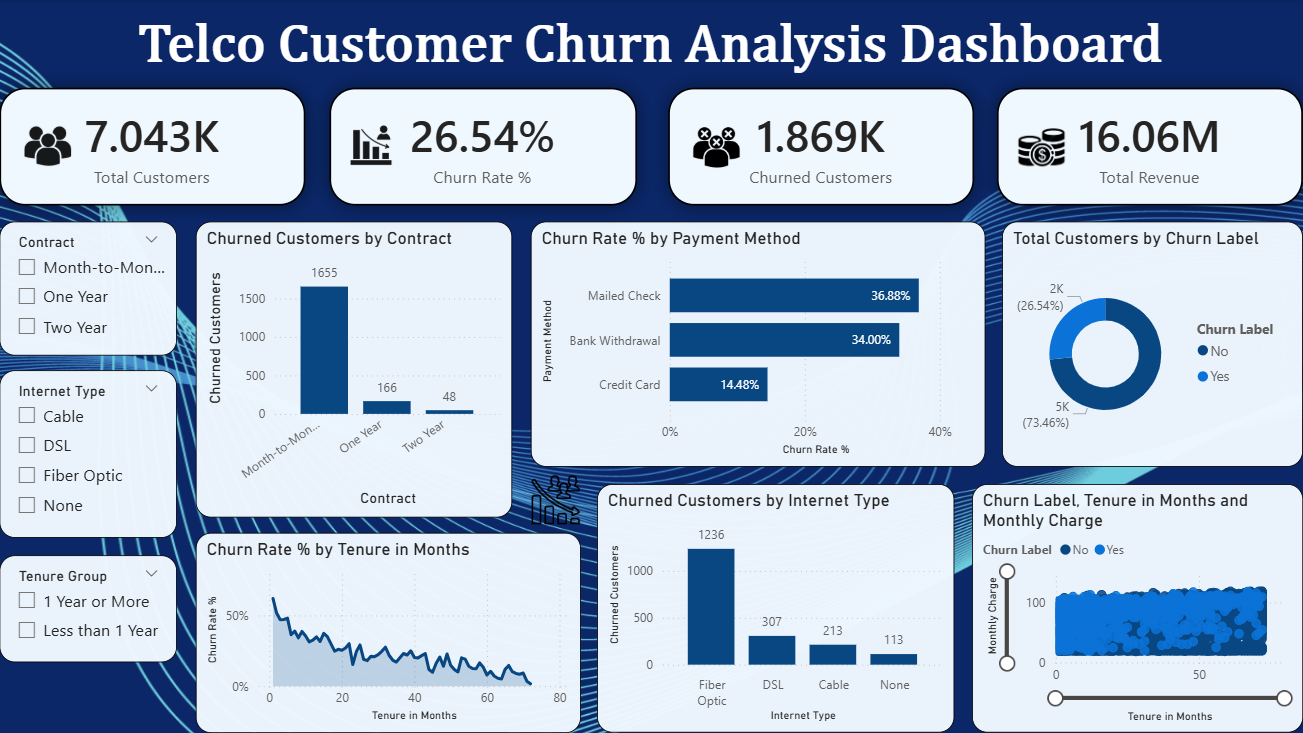

What the dashboard file says about the page in this screenshot:
{"tool":"powerbi","page":{"name":"Page 1","canvas":[1280,720],"ordinal":0},"visuals":[{"type":"clusteredColumnChart","fields":{"Y":["Measures Table.Churned Customers"],"Category":["telco.Contract"]},"box":[194.4,217.7,309.4,289.8],"z":0},{"type":"clusteredBarChart","fields":{"Category":["telco.Payment Method"],"Y":["Measures Table.Churn Rate %"]},"box":[522.1,217.7,445.1,239.7],"z":1000},{"type":"donutChart","fields":{"Category":["telco.Churn Label"],"Y":["Measures Table.Total Customers"]},"box":[983.2,217.7,294.7,239.7],"z":2000},{"type":"lineChart","fields":{"Y":["Measures Table.Churn Rate %"],"Category":["telco.Tenure in Months"]},"box":[194.4,522.1,376.6,195.7],"z":3000},{"type":"clusteredColumnChart","fields":{"Y":["Measures Table.Churned Customers"],"Category":["telco.Internet Type"]},"box":[587,474.5,349.7,243.3],"z":4000},{"type":"scatterChart","fields":{"X":["telco.Tenure in Months"],"Y":["telco.Monthly Charge"],"Series":["telco.Churn Label"]},"box":[953.8,474.5,324.1,243.3],"z":5000},{"type":"slicer","fields":{"Values":["telco.Contract"]},"box":[2.4,217.7,173.6,130.8],"z":6000},{"type":"slicer","fields":{"Values":["telco.Internet Type"]},"box":[2.4,363.2,173.6,163.9],"z":7000},{"type":"slicer","fields":{"Values":["telco.Tenure Group"]},"box":[2.4,544.2,173.6,105.2],"z":8000},{"type":"textbox","box":[127.2,11,1023.5,75.8],"z":9000},{"type":"cardVisual","fields":{"Data":["Measures Table.Total Customers"]},"box":[2.4,86.8,299.6,114.9],"z":10000},{"type":"cardVisual","fields":{"Data":["Measures Table.Churn Rate %"]},"box":[325.3,87.3,300.8,114.9],"z":11000},{"type":"cardVisual","fields":{"Data":["Measures Table.Churned Customers"]},"box":[656.7,87.3,299.6,114.9],"z":12000},{"type":"cardVisual","fields":{"Data":["Measures Table.Total Revenue"]},"box":[978.3,86.8,299.6,114.9],"z":13000},{"type":"image","box":[522.1,465.9,48.9,47.7],"z":14000},{"type":"image","box":[26.9,121.1,45.2,45.2],"z":15000},{"type":"image","box":[338.7,117.4,55,55],"z":16000},{"type":"image","box":[996.6,119.8,50.1,50.1],"z":17000},{"type":"image","box":[678.7,118.6,50.1,50.1],"z":18000}]}

Visuals, with their boxes in screenshot pixels (x1, y1, x2, y2), scaled from the page's 1280x720 canvas onto the 1303x733 screenshot:
clusteredColumnChart - Measures Table.Churned Customers x telco.Contract: x1=198 y1=222 x2=513 y2=517
clusteredBarChart - telco.Payment Method x Measures Table.Churn Rate %: x1=531 y1=222 x2=985 y2=466
donutChart - telco.Churn Label x Measures Table.Total Customers: x1=1001 y1=222 x2=1301 y2=466
lineChart - Measures Table.Churn Rate % x telco.Tenure in Months: x1=198 y1=532 x2=581 y2=731
clusteredColumnChart - Measures Table.Churned Customers x telco.Internet Type: x1=598 y1=483 x2=954 y2=731
scatterChart - telco.Tenure in Months x telco.Monthly Charge: x1=971 y1=483 x2=1301 y2=731
slicer - telco.Contract: x1=2 y1=222 x2=179 y2=355
slicer - telco.Internet Type: x1=2 y1=370 x2=179 y2=537
slicer - telco.Tenure Group: x1=2 y1=554 x2=179 y2=661
textbox: x1=129 y1=11 x2=1171 y2=88
cardVisual - Measures Table.Total Customers: x1=2 y1=88 x2=307 y2=205
cardVisual - Measures Table.Churn Rate %: x1=331 y1=89 x2=637 y2=206
cardVisual - Measures Table.Churned Customers: x1=669 y1=89 x2=973 y2=206
cardVisual - Measures Table.Total Revenue: x1=996 y1=88 x2=1301 y2=205
image: x1=531 y1=474 x2=581 y2=523
image: x1=27 y1=123 x2=73 y2=169
image: x1=345 y1=120 x2=401 y2=176
image: x1=1015 y1=122 x2=1066 y2=173
image: x1=691 y1=121 x2=742 y2=172
